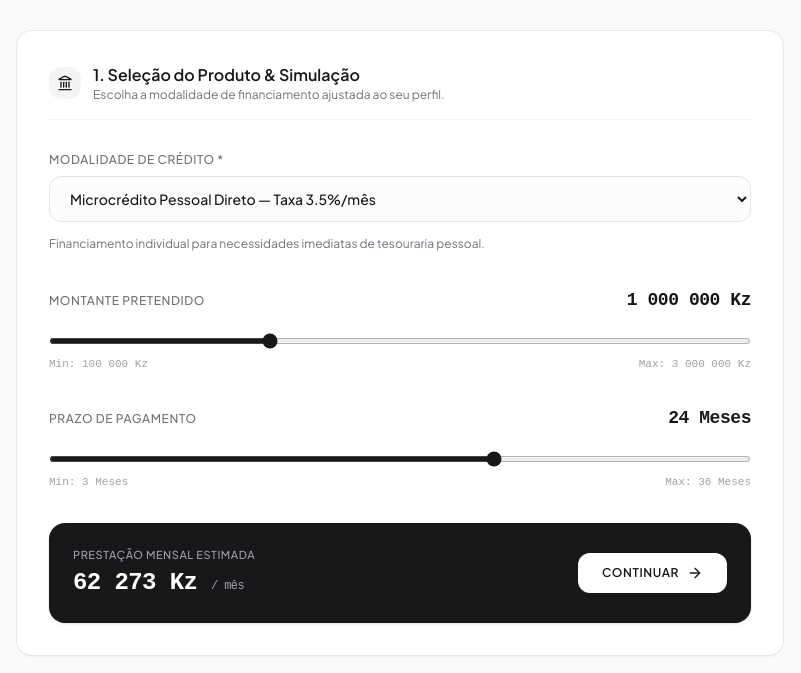
Test: SolicitarPage Component › renders Step 1 with dynamic API products and navigates through wizard steps
The image size is (801, 673).
(page scrolled)
Note: Advance to Step 2
Click the button with test id "btn-next-step-1" at (652, 573), box [578, 553, 727, 593]
(page scrolled)
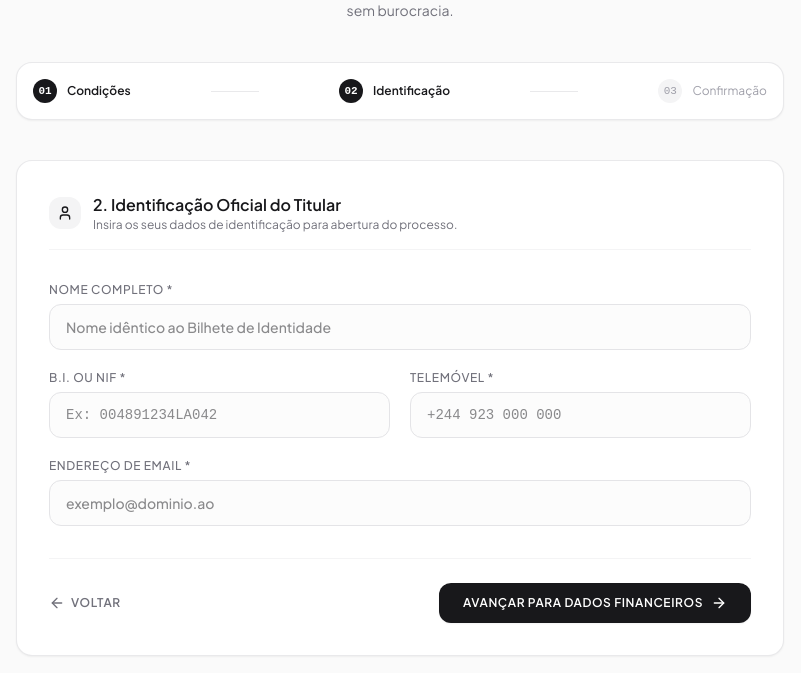
Check: the element with test id "step-2-container" is shown
Note: Fill Step 2 inputs
Type "Manuel da Silva" into the field with test id "input-nome" at (400, 327), box [49, 304, 751, 350]
Type "004891234LA042" into the field with test id "input-bi-nif" at (220, 415), box [49, 392, 390, 438]
Type "+244923000111" into the field with test id "input-telemovel" at (580, 415), box [410, 392, 751, 438]
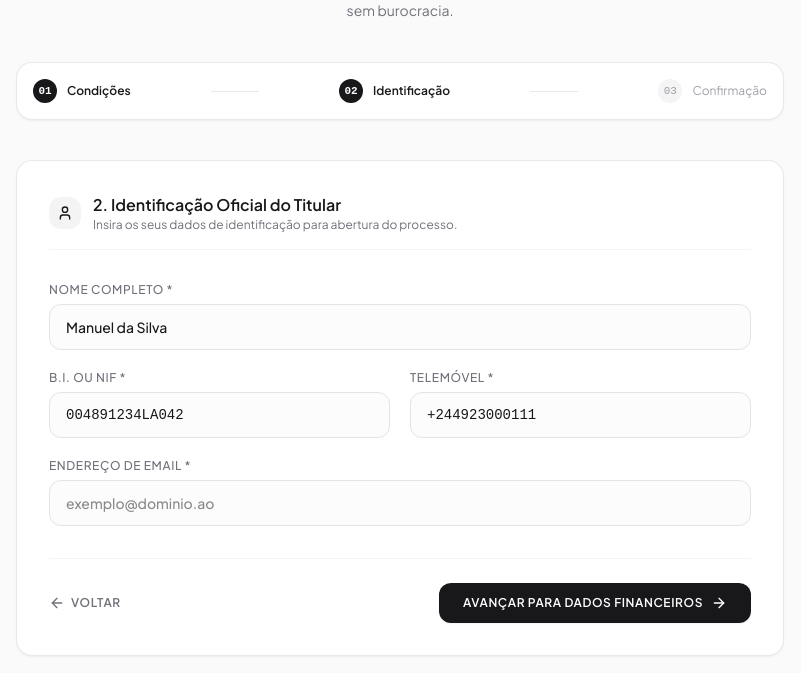
Type "manuel@gloxis.ao" into the field with test id "input-email" at (400, 503), box [49, 480, 751, 526]
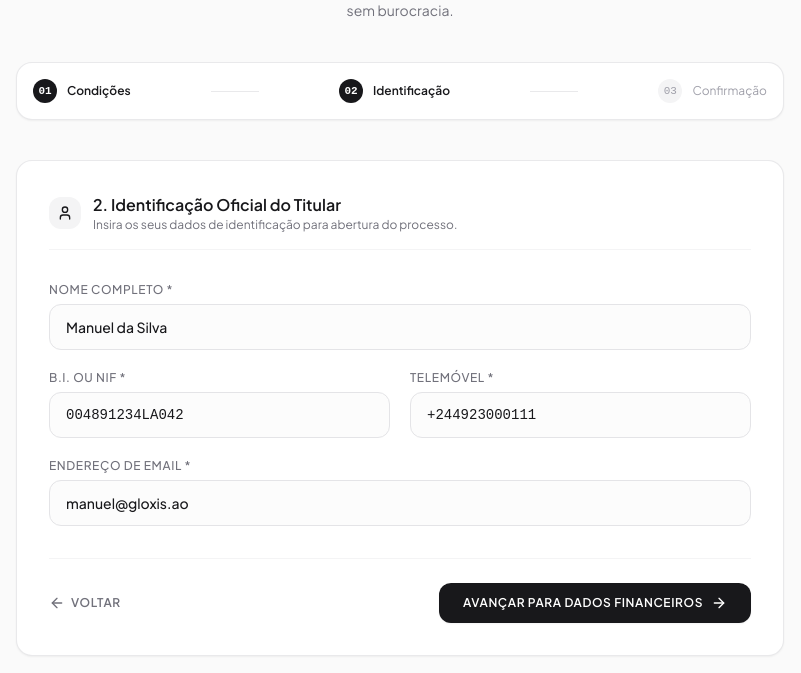
Note: Advance to Step 3
Click the button with test id "btn-next-step-2" at (595, 603), box [439, 583, 751, 623]
(page scrolled)
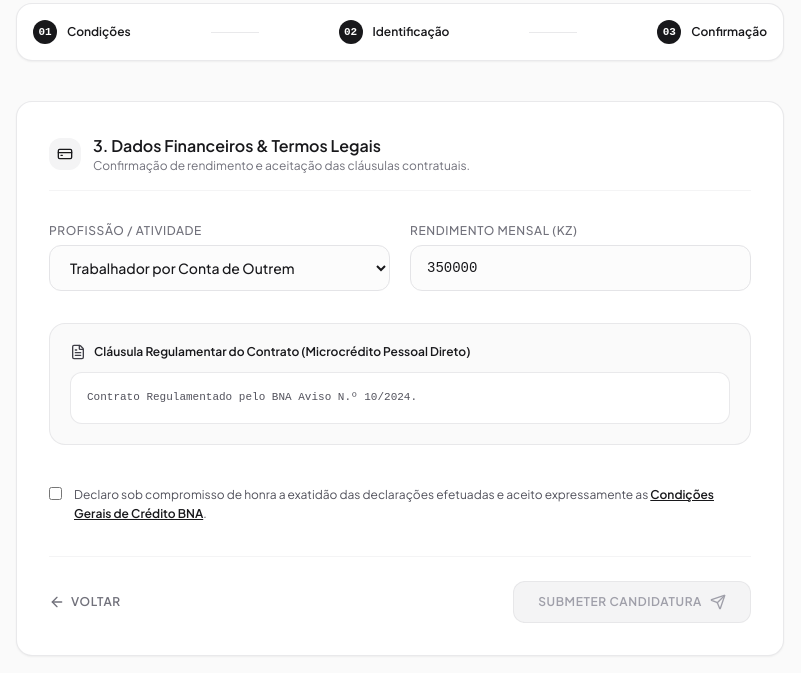
Check: the form with test id "step-3-container" is shown
Check: the text "Contrato Regulamentado pelo BNA Aviso N.º 10/2024." is shown, box [70, 372, 730, 424]
Note: Accept terms
Click the checkbox with test id "checkbox-termos" at (56, 493), box [49, 487, 62, 500]
(page scrolled)
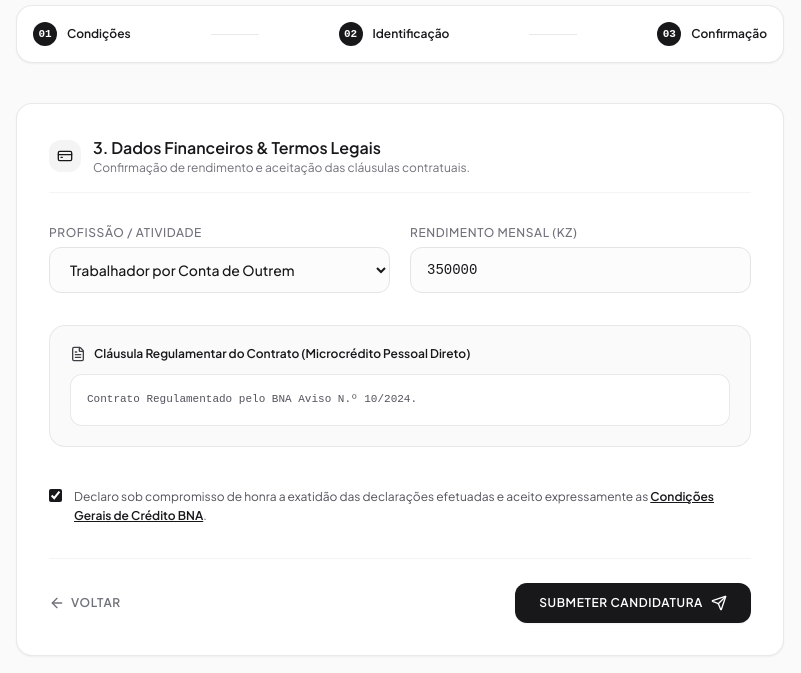
Check: the checkbox with test id "checkbox-termos" is checked, box [49, 489, 62, 502]
Note: Submit form
Click the button with test id "btn-submit-processo" at (633, 603), box [515, 583, 751, 623]
(page scrolled)
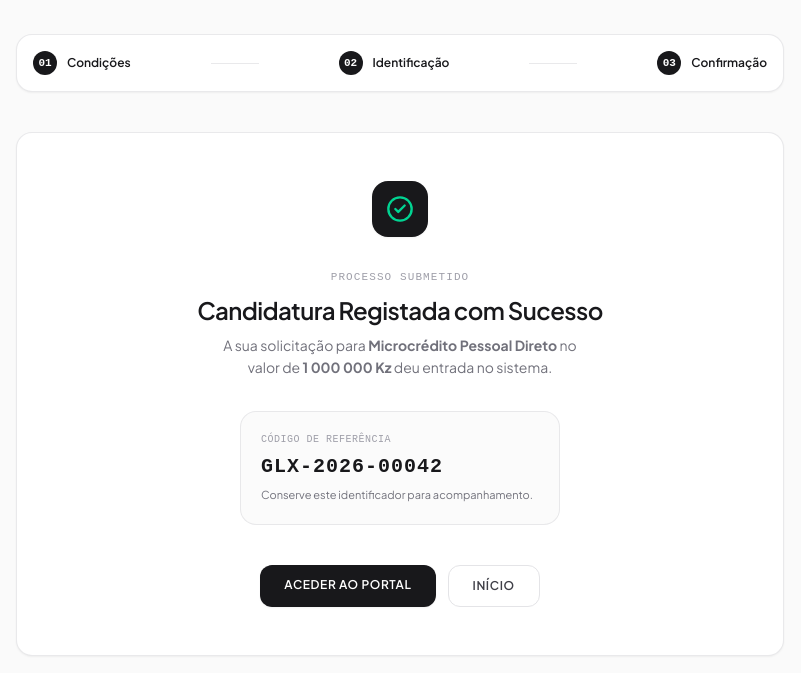
Check: the element with test id "success-container" is shown
Check: the text with test id "process-number-display" reads "GLX-2026-00042", box [261, 455, 443, 478]
